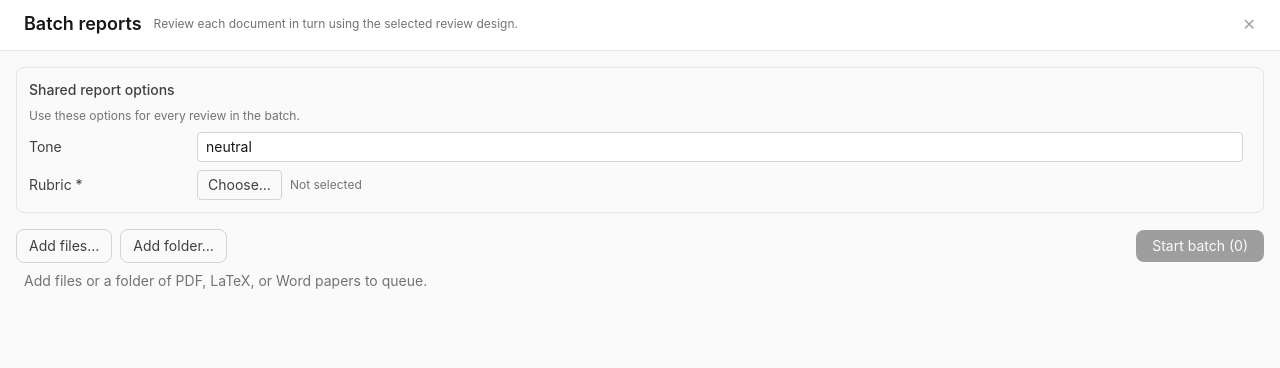
Scenario: BatchPanel profile semantics › surfaces a file-picker plugin failure without suggesting a setup retry
Check: the field labelled "Tone" is shown, box [197,132,1243,162]
Click the button "Add files…": (64, 246) [16,229,112,263]
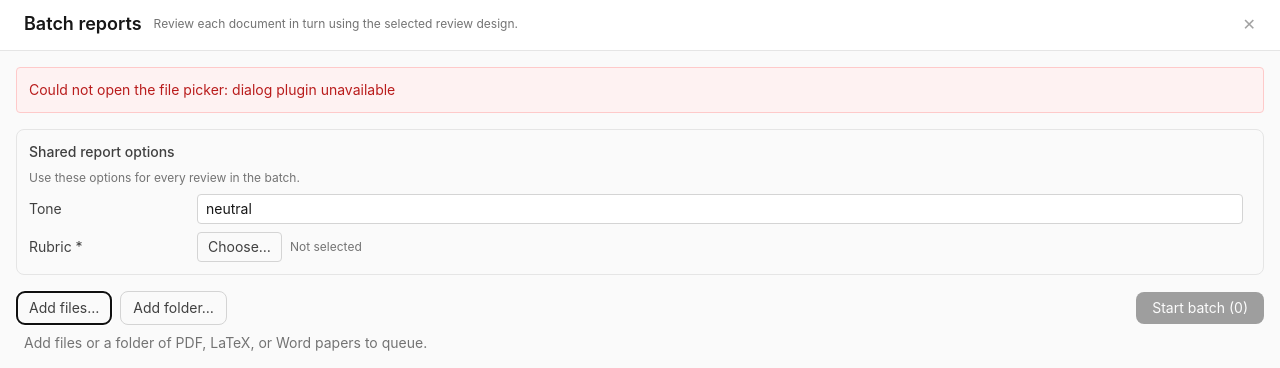
Check: the message reads "Could not open the file picker: dialog plugin unavailable", box [29,81,395,98]
